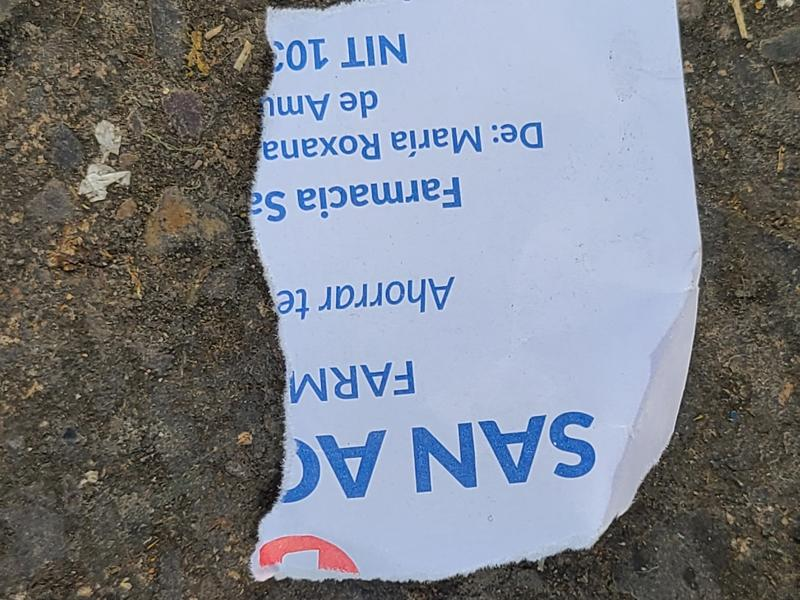papel: (249, 0, 703, 585)
